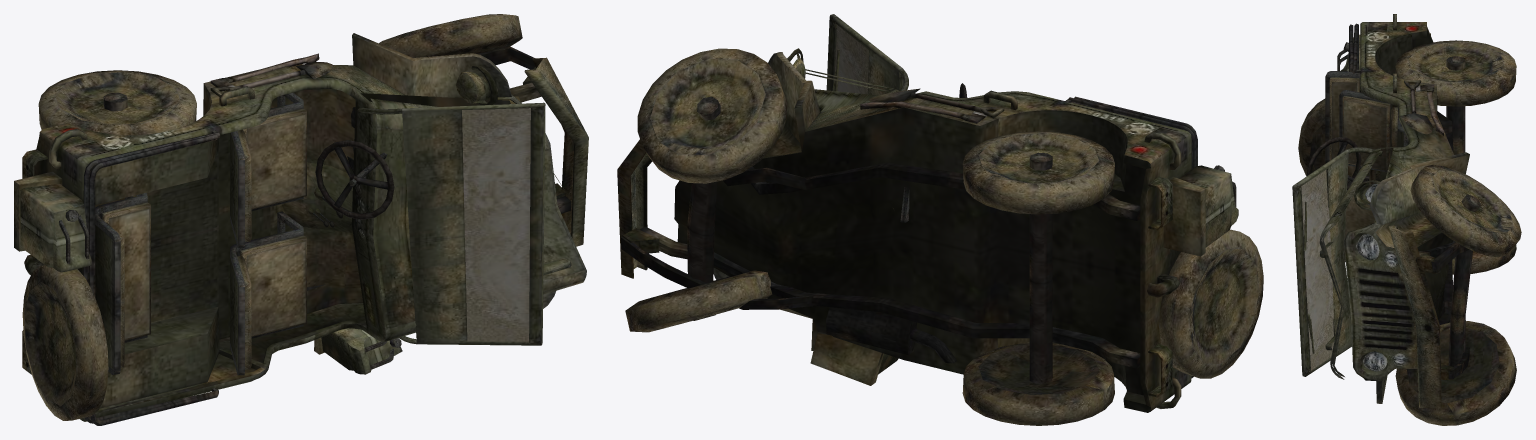
File: vehicle_american_jeep_crash_static.glb
3 views of the same model, side by side, from view 1: azimuth 30°, elevation 25°; view 2: azimuth 150°, elevation 25°; view 3: azimuth 270°, elevation 25° (orthographic). The views are drawn at different scales.
Size of the model in its own units: 147 by 73.78 by 65.
2 materials, 2 textured.
